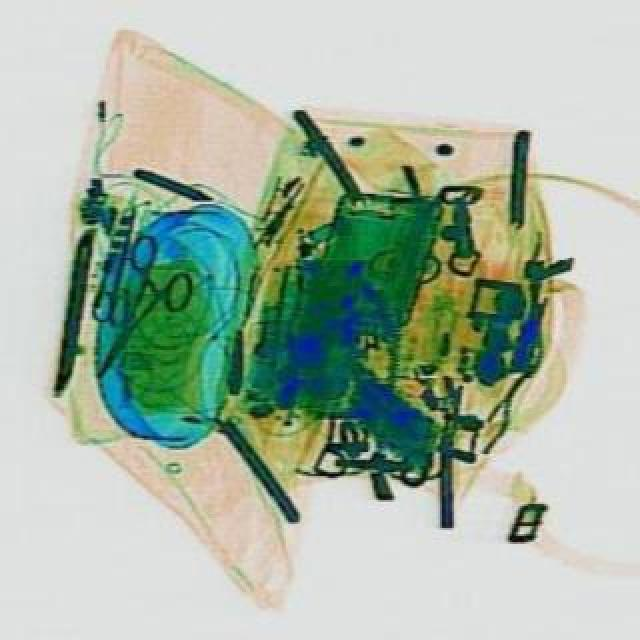pliers: (64, 232, 218, 400), (96, 204, 164, 334)
